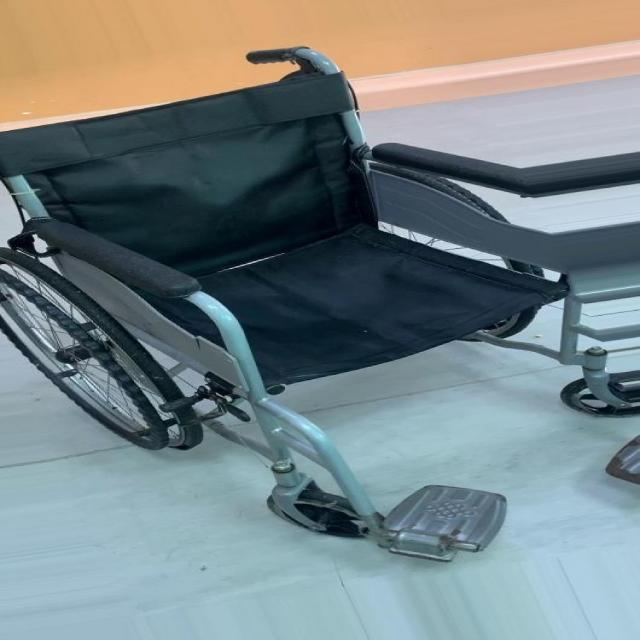wheelchair: (0, 30, 640, 578)
